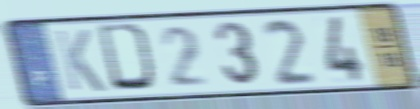2: (259, 16, 319, 88), (160, 23, 211, 90)
3: (212, 19, 261, 89)
4: (323, 12, 367, 85)
D: (95, 21, 161, 95)
K: (52, 28, 109, 95)
